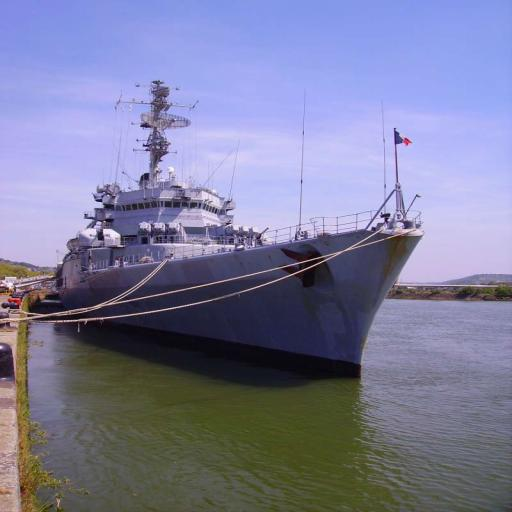Portanaves: (55, 77, 439, 381)
